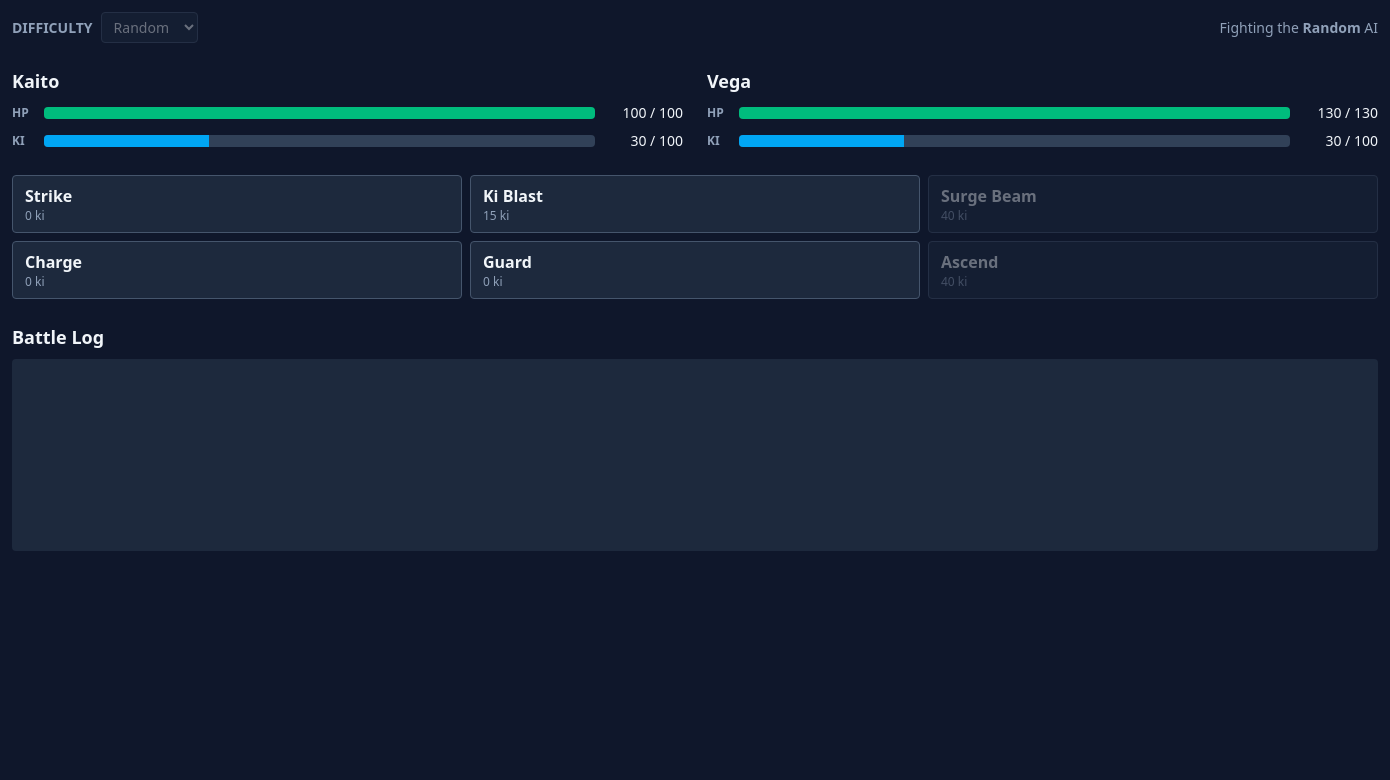
Test: MatchScreen › surfaces an API error as a readable message and keeps playing
This screenshot has width=1390, height=780.
Click the button "Strike 0 ki": (49, 196) [12, 175, 462, 233]
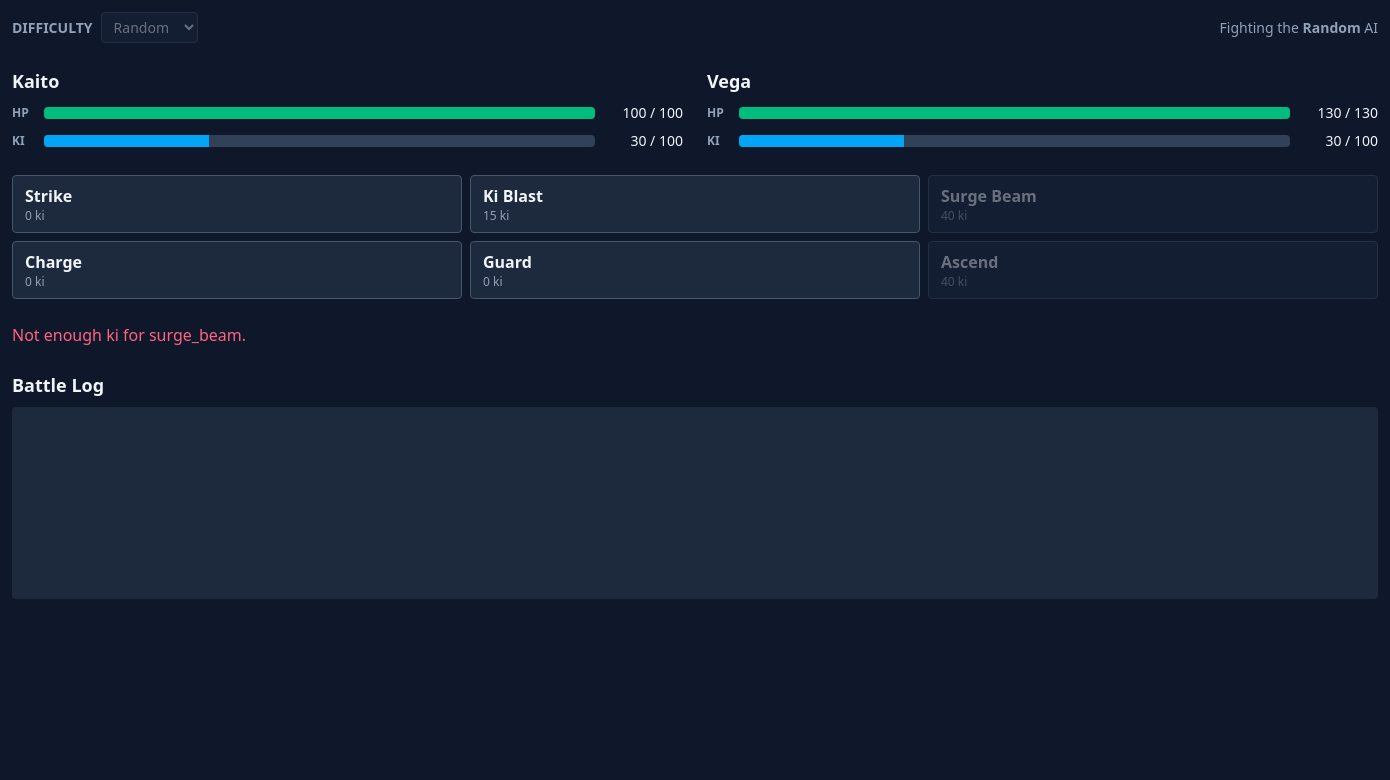
Expected: the text "100 / 100" is shown, [622, 103, 683, 122]
Now the message reads "Not enough ki for surge_beam.", box [12, 324, 246, 346]
Click the button "Strike 0 ki": (49, 196) [12, 175, 462, 233]
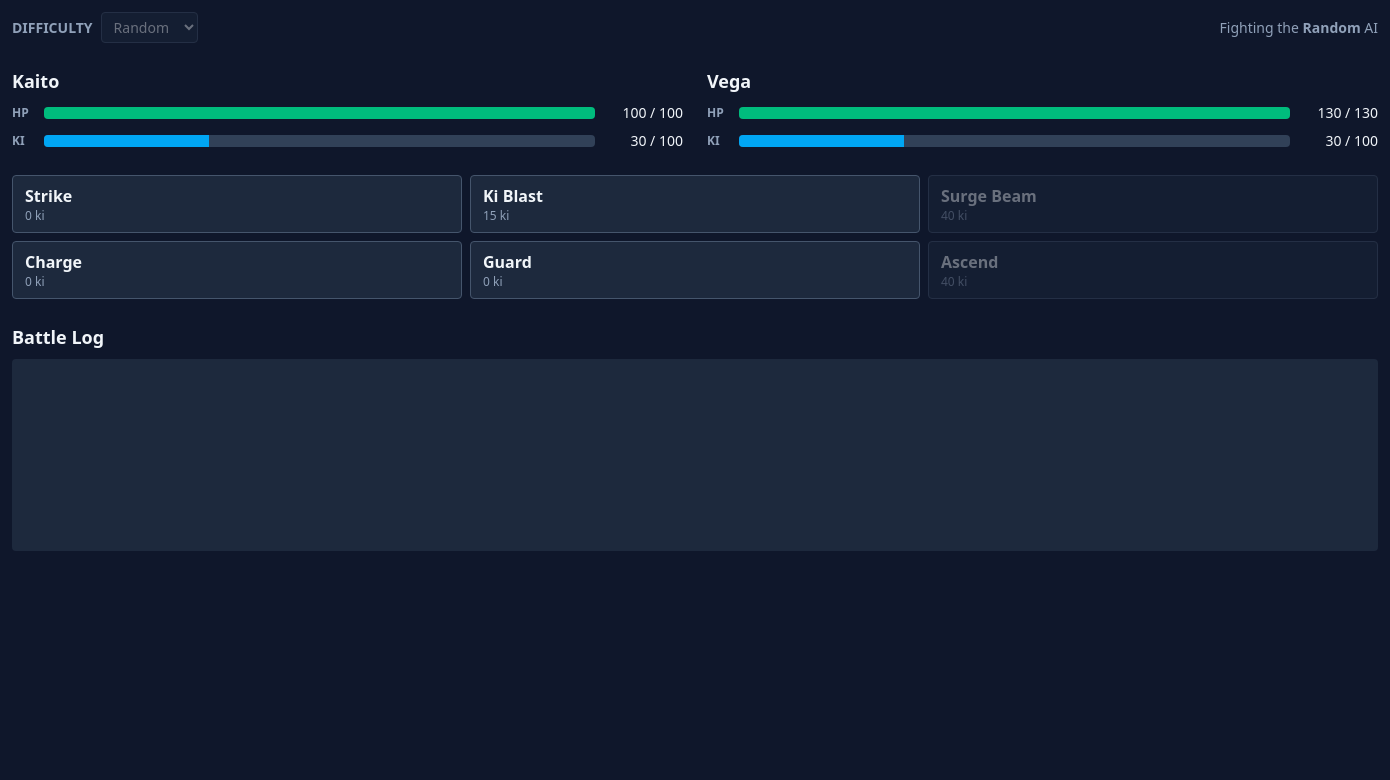
Now the message "Not enough ki for surge_beam." is gone
